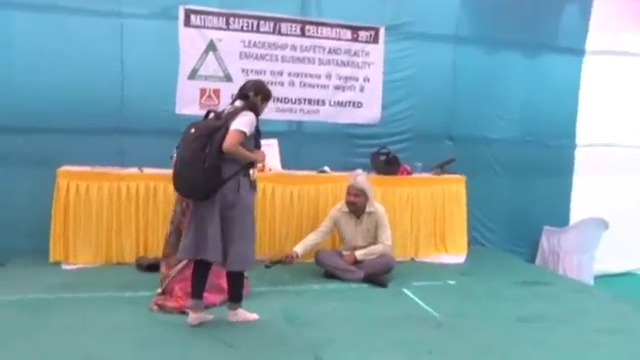helmet_off: (236, 80, 274, 119), (343, 181, 371, 218)
person: (167, 78, 274, 327), (281, 176, 396, 287)
